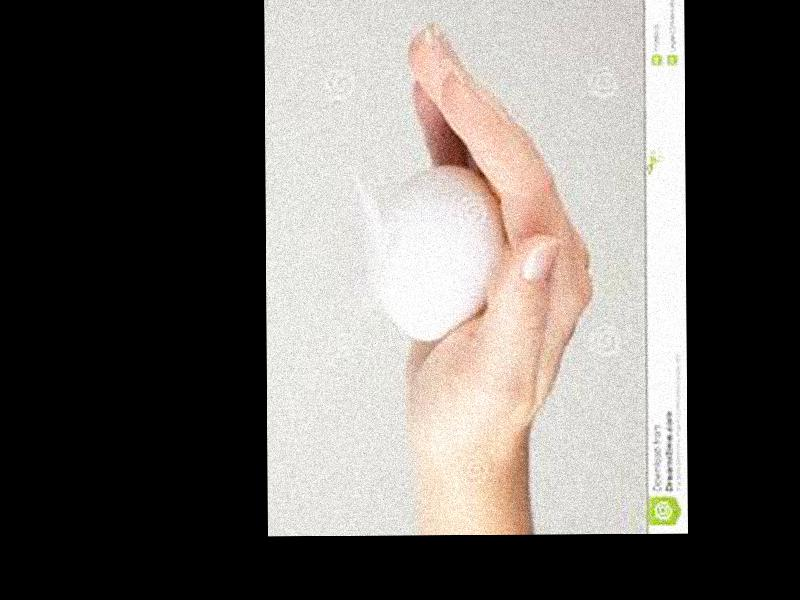Eggs: (381, 162, 504, 342)
